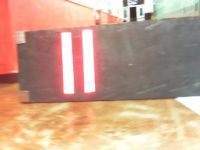switch: (82, 29, 96, 93), (61, 32, 75, 94)
